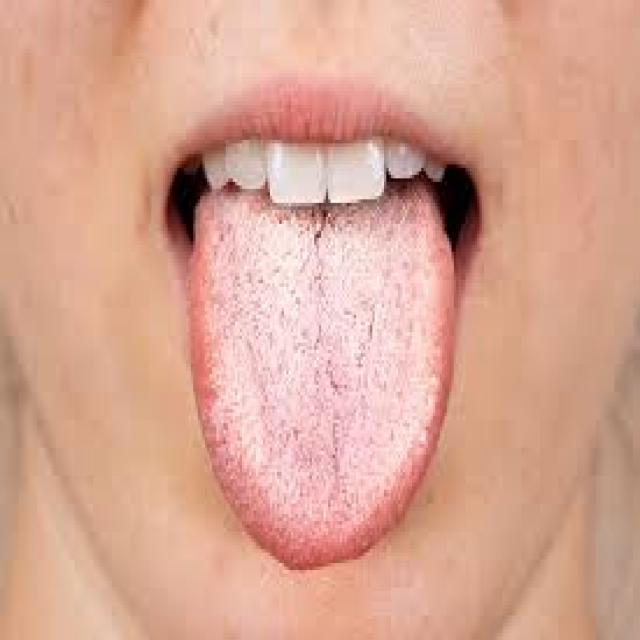normal_tongue: (171, 112, 515, 588)
